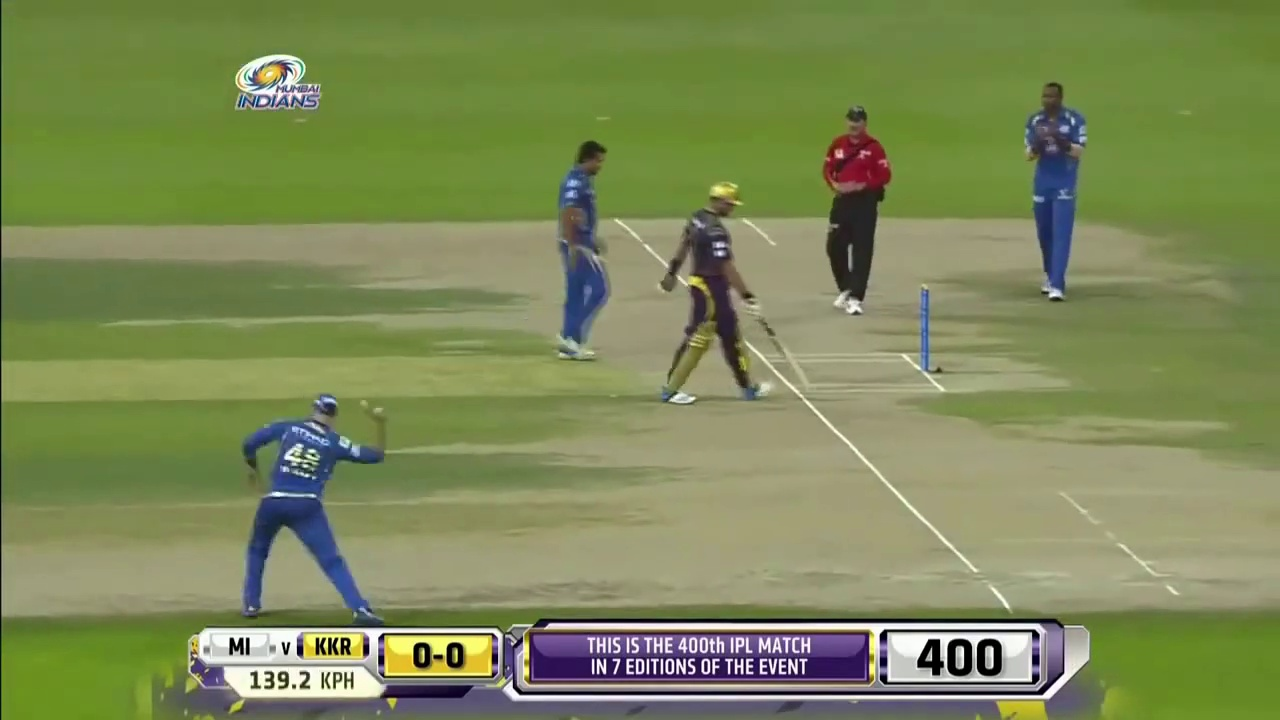bat: (758, 318, 813, 388)
stumps: (919, 281, 932, 372)
